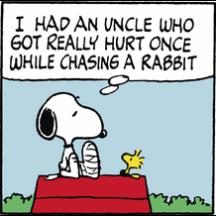snoopy: (34, 92, 109, 182)
